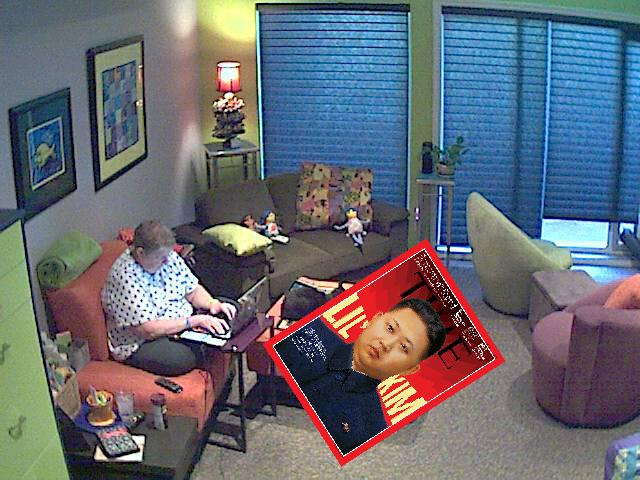times: (261, 239, 504, 469)
